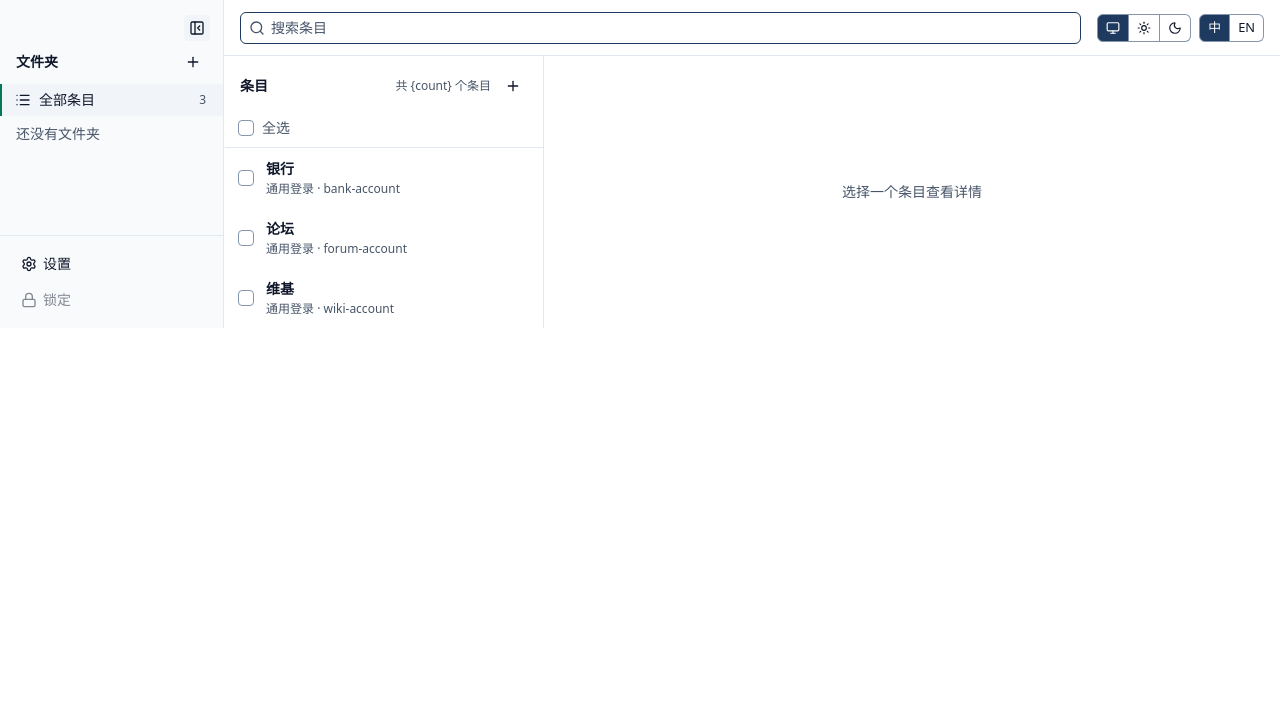
Test: 工作区编辑条目 › 取消编辑不改动列表与详情
This screenshot has width=1280, height=720.
Click the button "银行 通用登录 · bank-account". click: [400, 178]
box: x1=258 y1=148 x2=543 y2=208
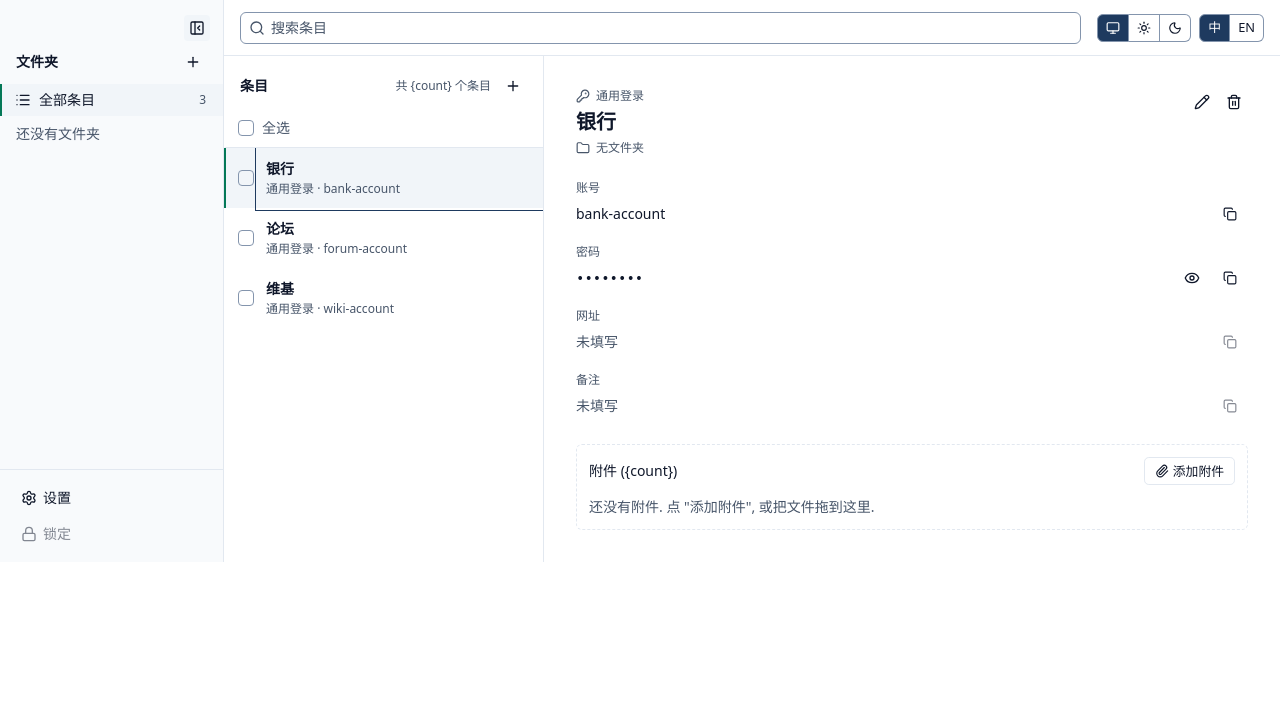
Result: the heading "银行" is shown at x1=576 y1=108 x2=616 y2=135
Click the button named "编辑条目". click: [1202, 102]
box: x1=1188 y1=88 x2=1216 y2=116
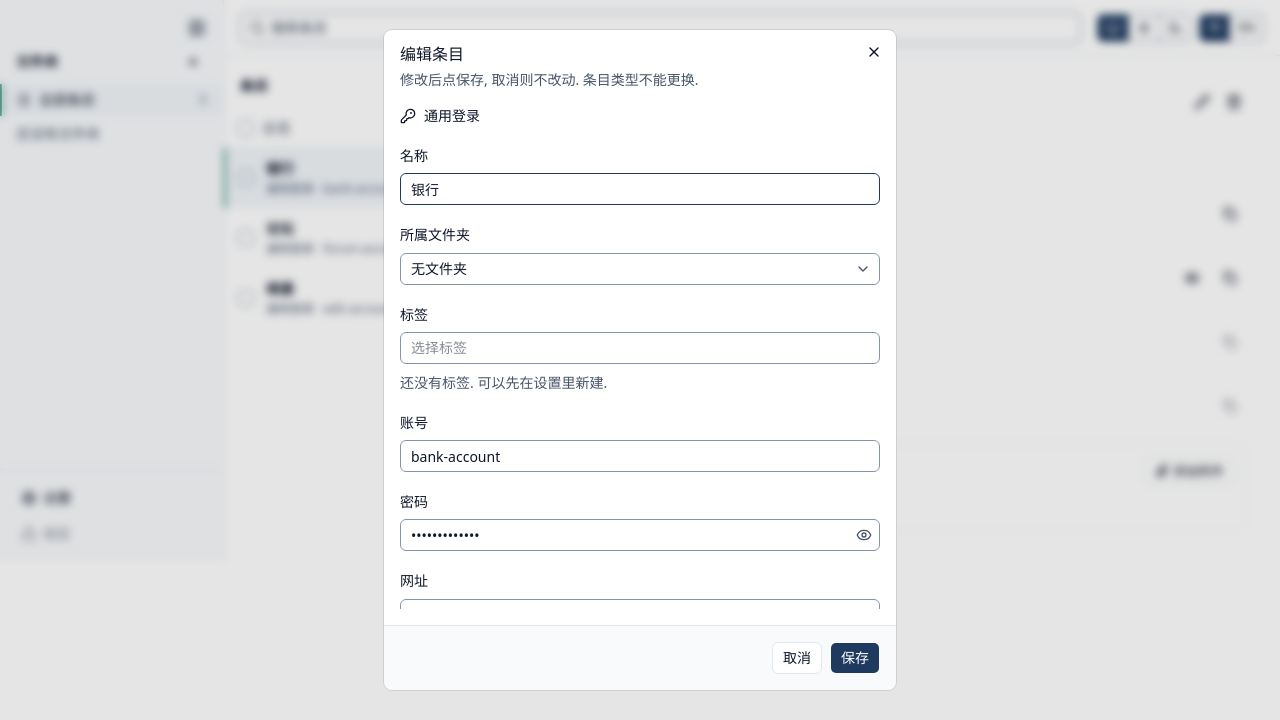
Type "改" into the field labelled "名称". click: [640, 189]
box: x1=400 y1=173 x2=880 y2=205
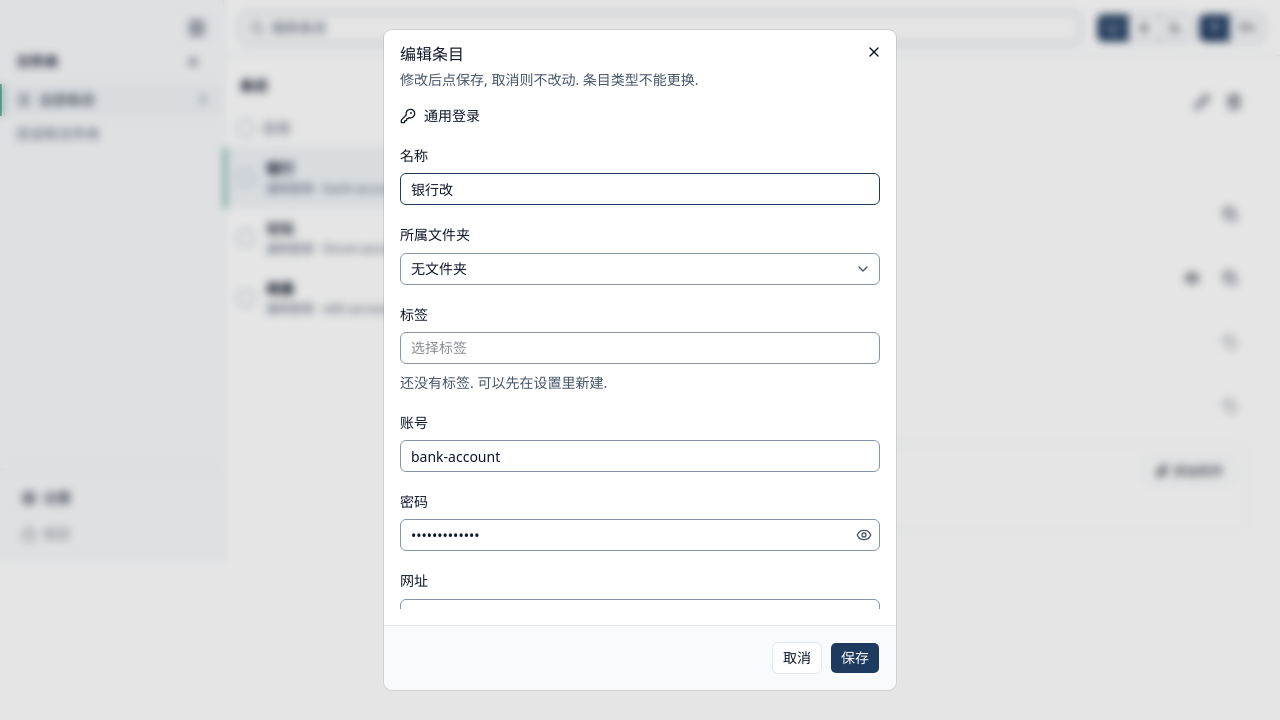
Click the button "取消". click: [797, 658]
box: x1=772 y1=642 x2=822 y2=674
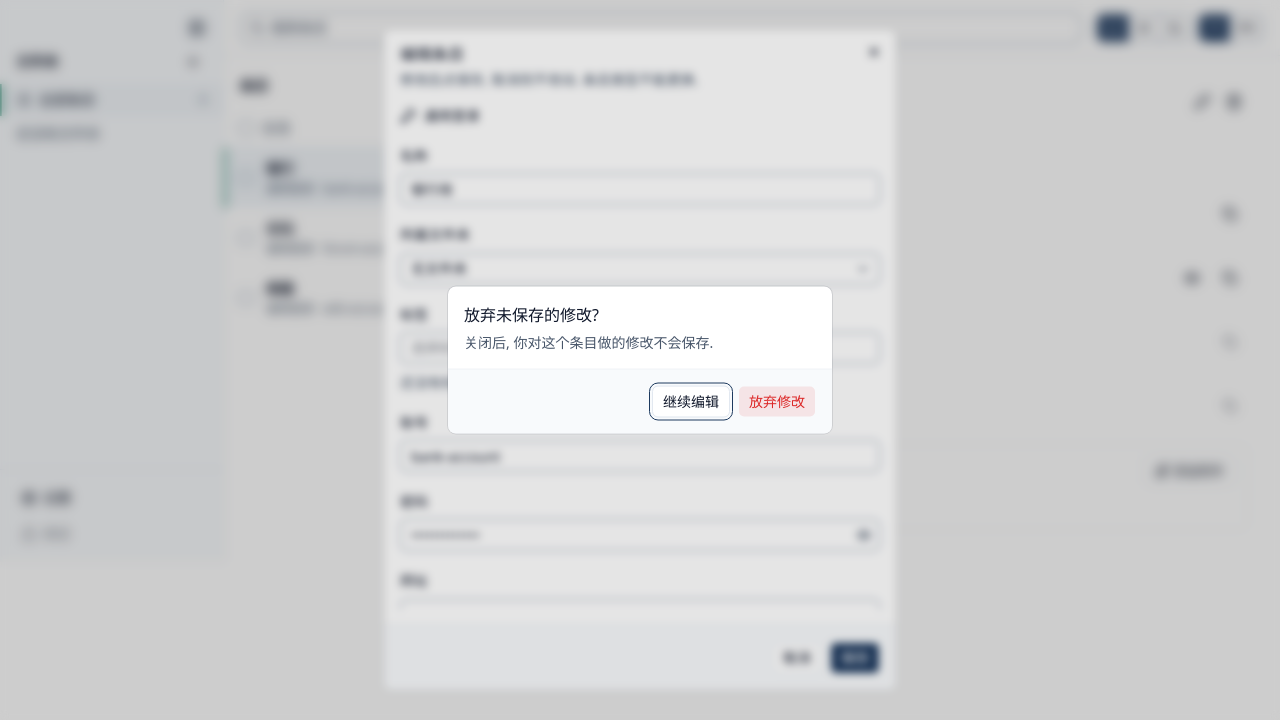
Click the button "放弃修改". click: [777, 402]
box: x1=738 y1=386 x2=816 y2=418
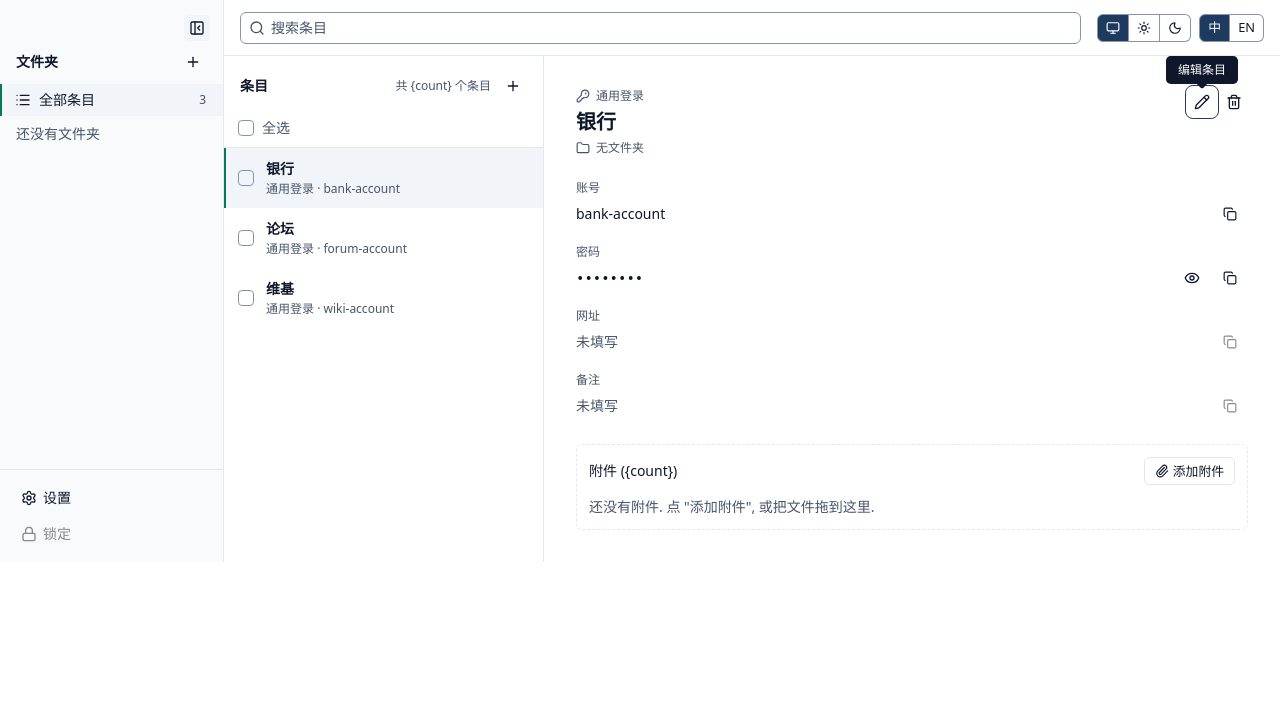
Result: the heading "银行" is shown at x1=576 y1=108 x2=616 y2=135
Result: the dialog is gone
